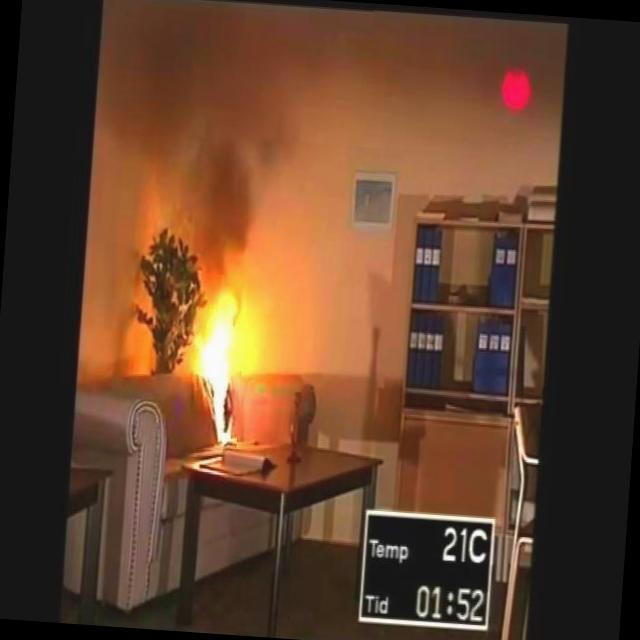fire: (186, 297, 248, 422)
